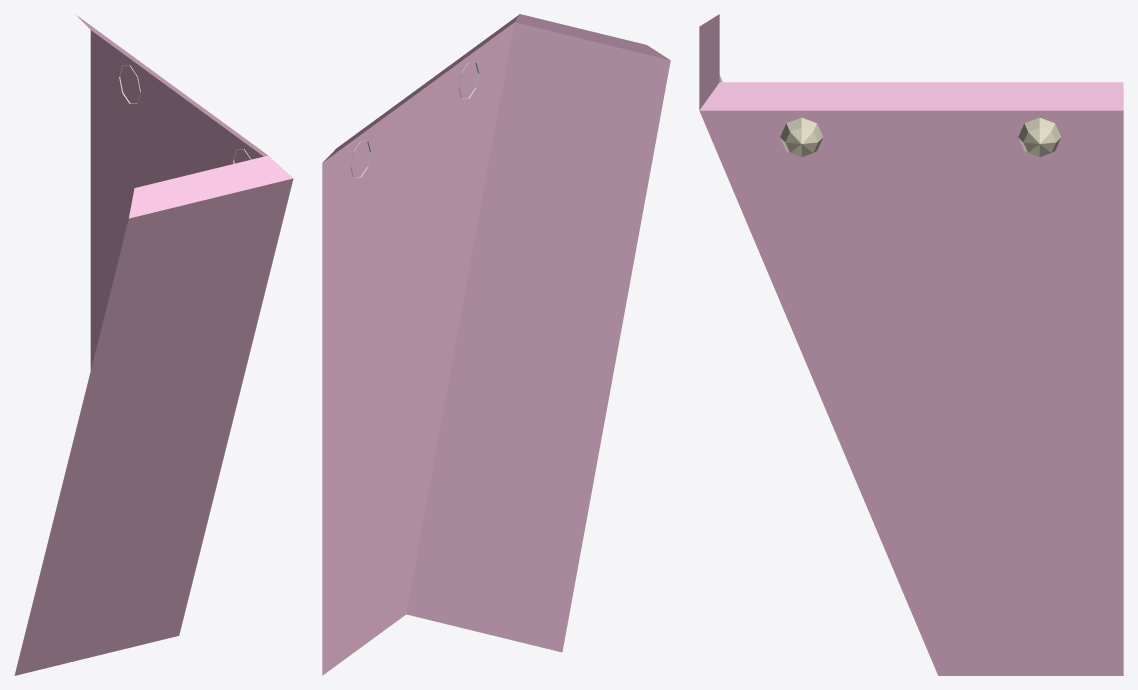
3 views of the same model, side by side, from view 1: azimuth 30°, elevation 25°; view 2: azimuth 150°, elevation 25°; view 3: azimuth 270°, elevation 25° (orthographic). The views are drawn at different scales.
Parts seen in each view (by area): view 1: Object18; view 2: Object18; view 3: Object18.
Part boxes in pixels (x1=…): Object18: x1=14, y1=15, x2=293, y2=675; Object18: x1=322, y1=14, x2=670, y2=675; Object18: x1=699, y1=14, x2=1123, y2=675.
Bounding box in the file's own units: 266 × 800 × 525.
